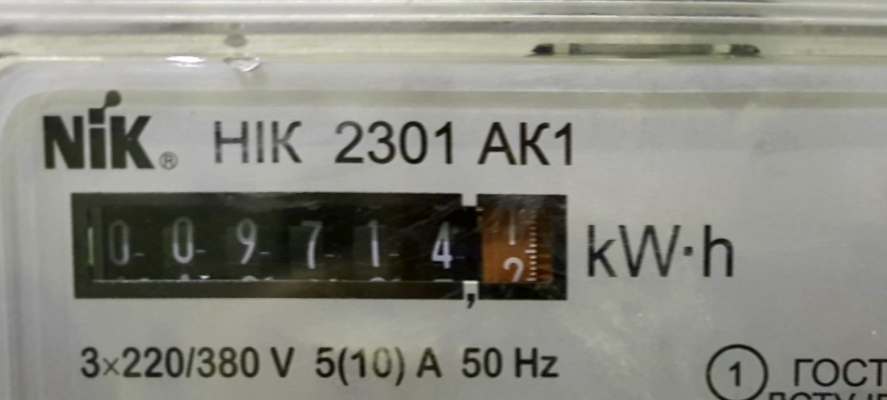0: (105, 216, 134, 270), (169, 213, 196, 266)
1: (363, 215, 386, 271), (504, 206, 519, 249)
2: (502, 254, 526, 284)
4: (428, 219, 457, 273)
7: (299, 218, 325, 272)
9: (232, 215, 260, 268)
screen: (56, 177, 585, 321)
